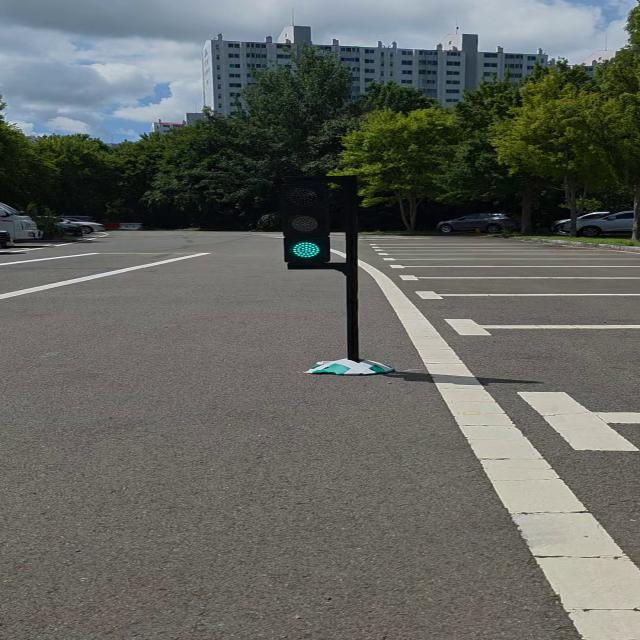green: (284, 182, 328, 270)
